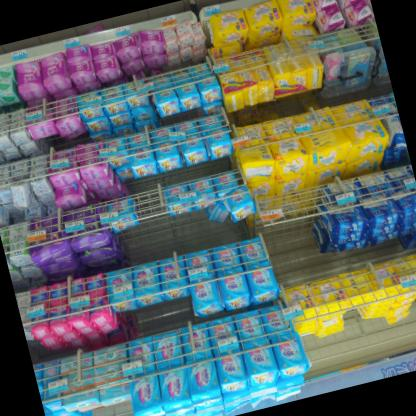empty_space: (264, 210, 326, 279), (135, 187, 176, 259)
